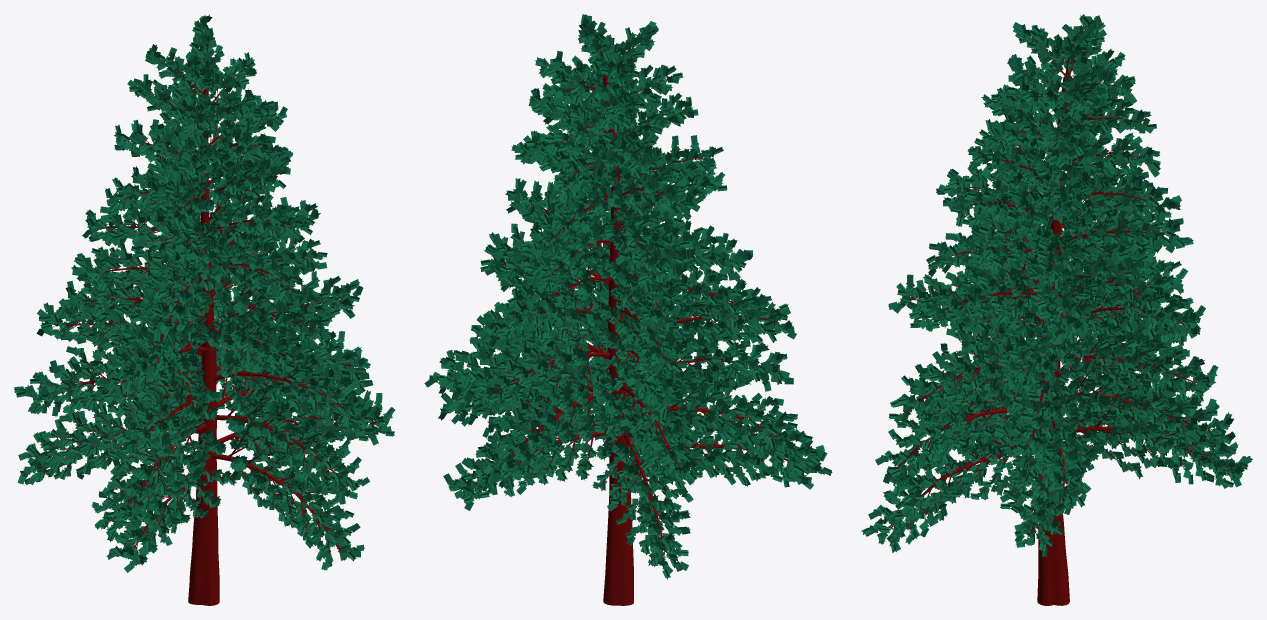
The model's file is tree3.FBX.
The picture shows the model from 3 angles, left to right: view 1: azimuth 30°, elevation 25°; view 2: azimuth 150°, elevation 25°; view 3: azimuth 270°, elevation 25°; orthographic projection. The views are drawn at different scales.
Parts seen in each view (by area): view 1: Foliage001, Foliage002; view 2: Foliage001, Foliage002; view 3: Foliage001, Foliage002.
Part boxes in pixels (left/top/right/bottom): Foliage001: left=14, top=14, right=395, bottom=572; Foliage002: left=24, top=26, right=388, bottom=605; Foliage001: left=424, top=14, right=832, bottom=579; Foliage002: left=452, top=43, right=798, bottom=605; Foliage001: left=861, top=14, right=1252, bottom=556; Foliage002: left=878, top=24, right=1237, bottom=605.
Bounding box in the file's own units: 103 × 171 × 102.
